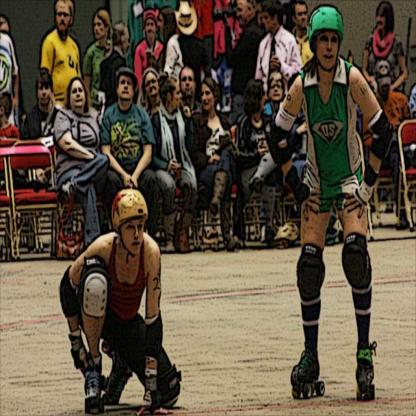Helmet: (308, 6, 344, 76), (109, 188, 144, 256)
